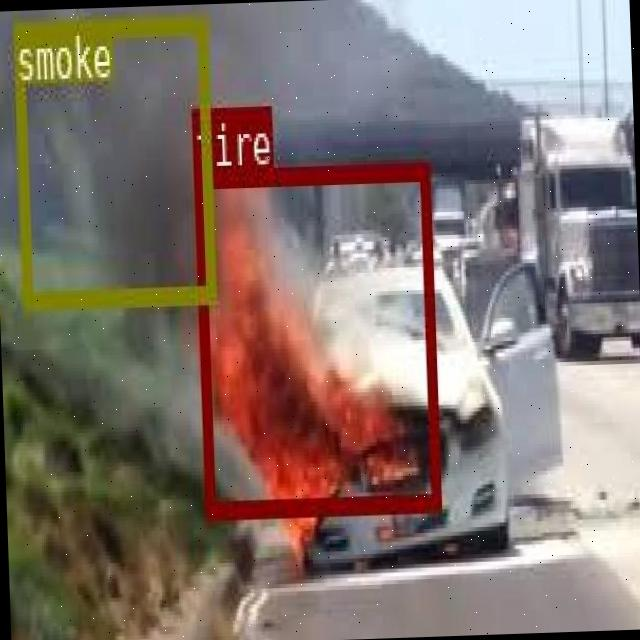fire: (192, 159, 440, 516)
smoke: (12, 15, 214, 306)
